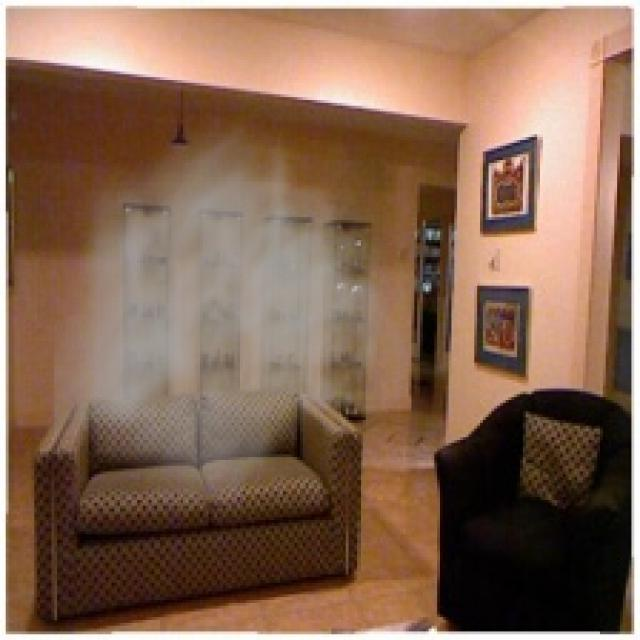smoke: (54, 106, 426, 520)
